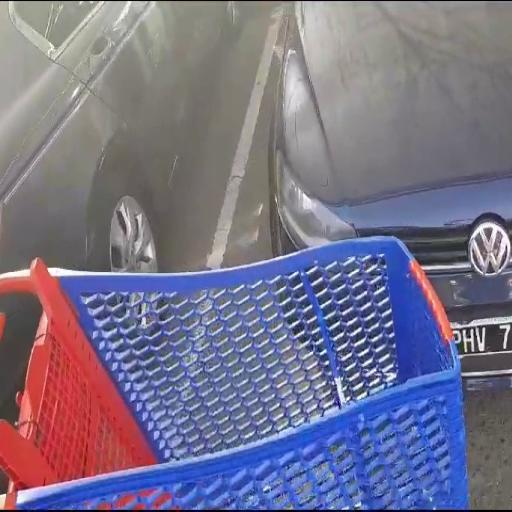shopping_cart: (0, 230, 472, 512)
